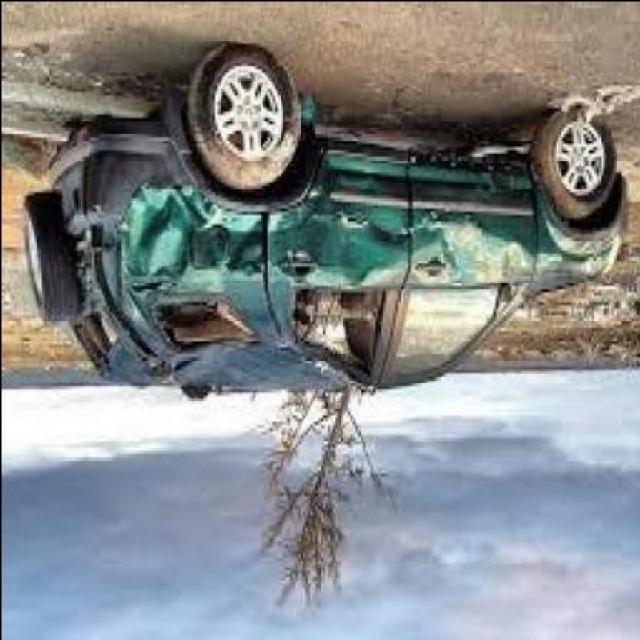damage: (51, 111, 598, 393)
